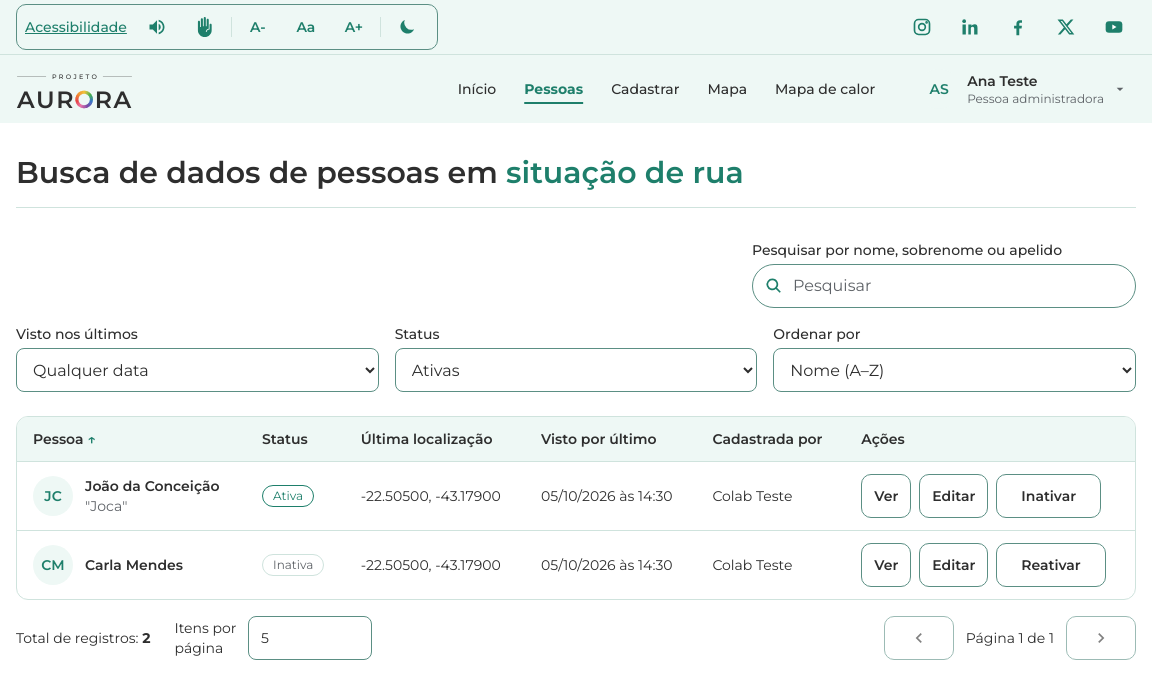
it: Buscar pessoas › inativa e reativa pela própria lista
Click the button with aria-label "Inativar João da Conceição".
click(1049, 496)  # box [996, 474, 1101, 518]
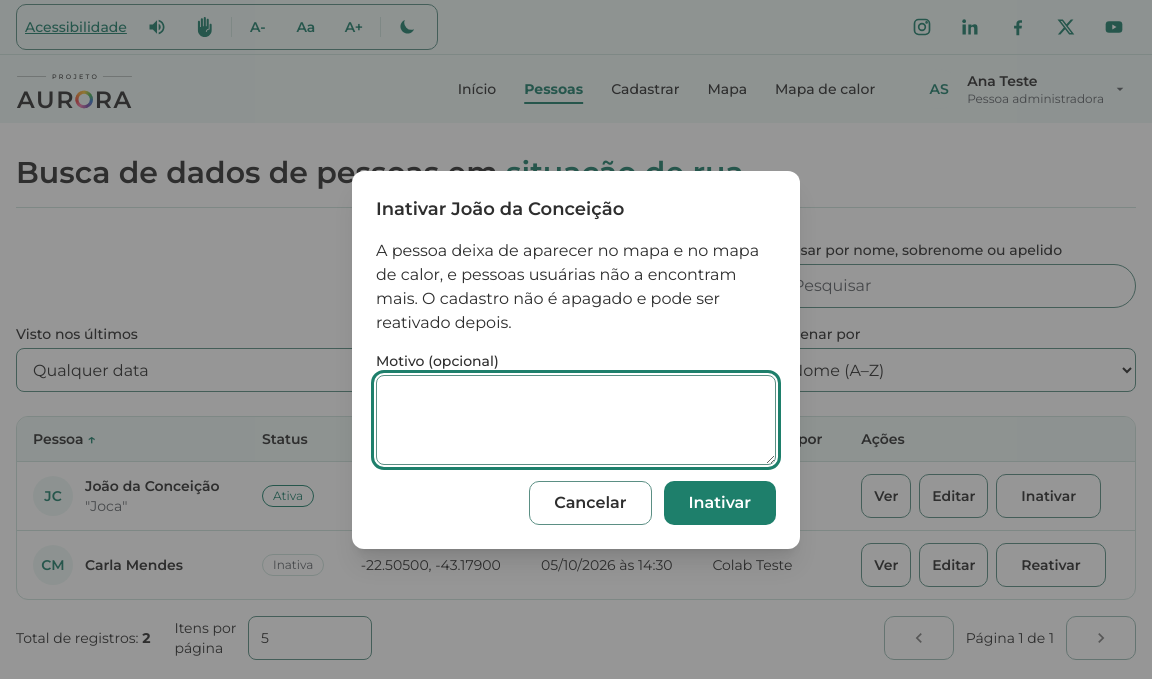
Click the button "Inativar".
click(720, 503)  # box [664, 481, 776, 525]
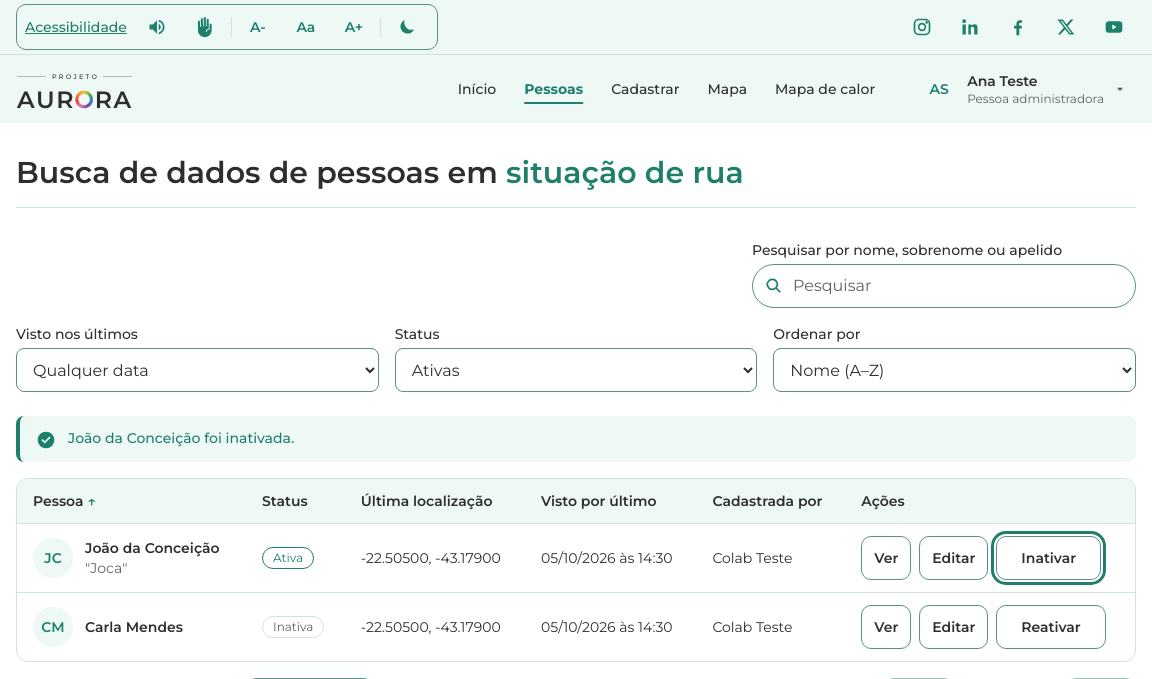
Expected: the text "João da Conceição foi inativada." is shown, [68, 428, 294, 448]
Click the button with aria-label "Reativar Carla Mendes".
click(1051, 627)  # box [996, 605, 1106, 649]
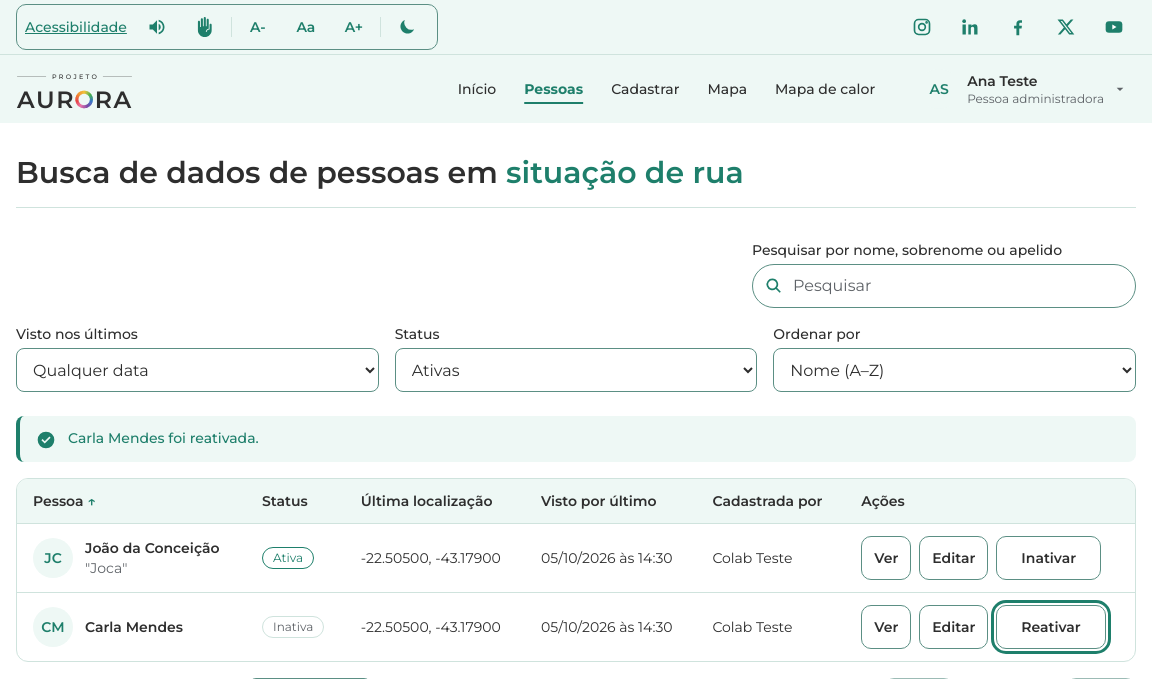
Expected: the text "Carla Mendes foi reativada." is shown, [68, 428, 259, 448]
